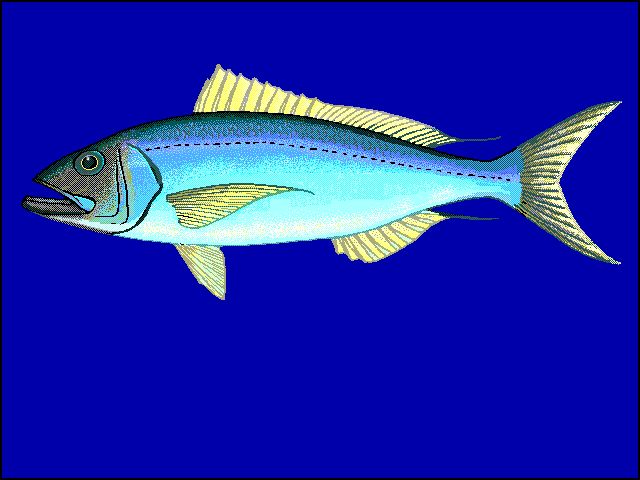fish: (24, 65, 628, 299)
